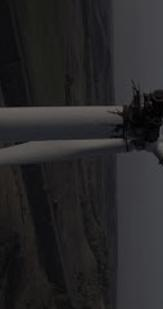faulty: (51, 92, 160, 165)
